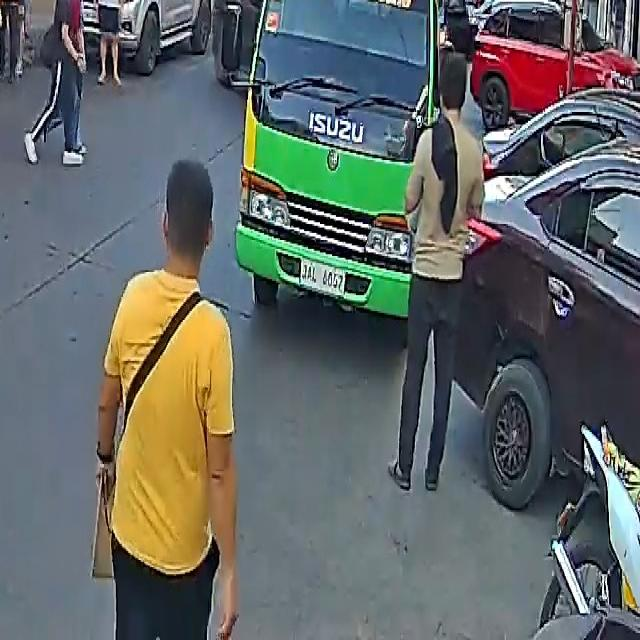car: (448, 157, 640, 519), (470, 0, 638, 135), (80, 0, 210, 76)
